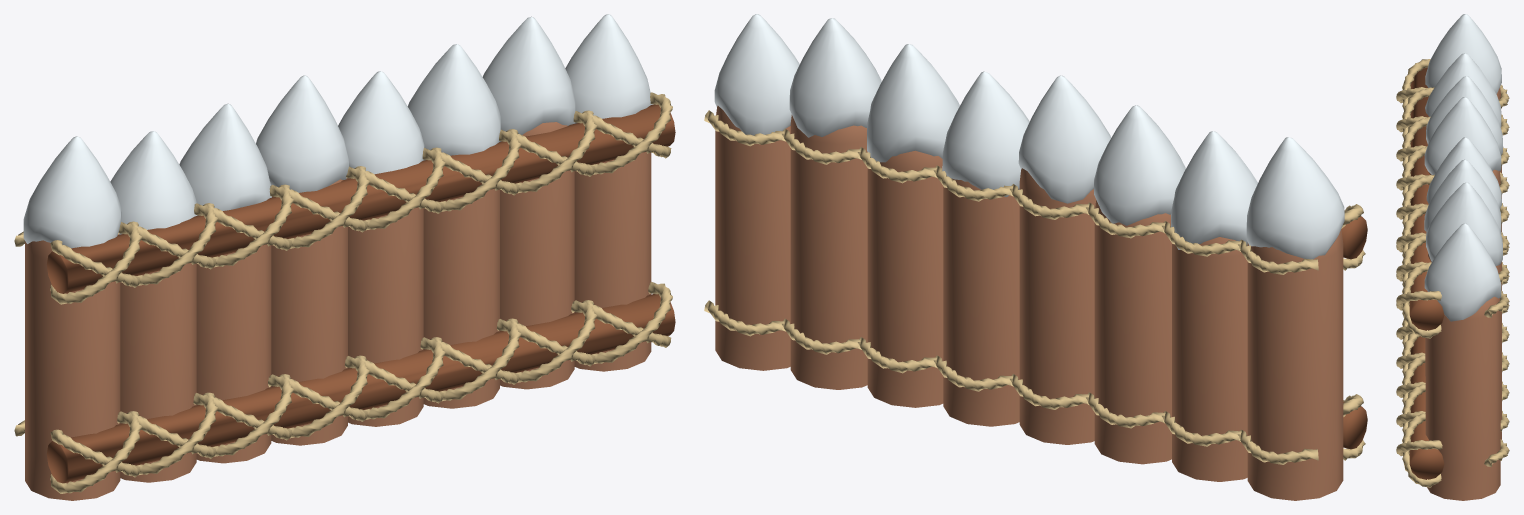
The model's file is snowbound_palisade.obj.
3 renders of one model, left to right at view 1: azimuth 30°, elevation 25°; view 2: azimuth 150°, elevation 25°; view 3: azimuth 270°, elevation 25°, orthographic. The views are drawn at different scales.
Visible parts, largest first — view 1: snowbound_palisade; view 2: snowbound_palisade; view 3: snowbound_palisade.
Boxes of the visible parts, left/top/right/bottom form: snowbound_palisade: left=14, top=14, right=675, bottom=500; snowbound_palisade: left=704, top=14, right=1367, bottom=500; snowbound_palisade: left=1396, top=14, right=1509, bottom=500.
Size of the model in its own units: 2.64 by 1.43 by 0.5356.
